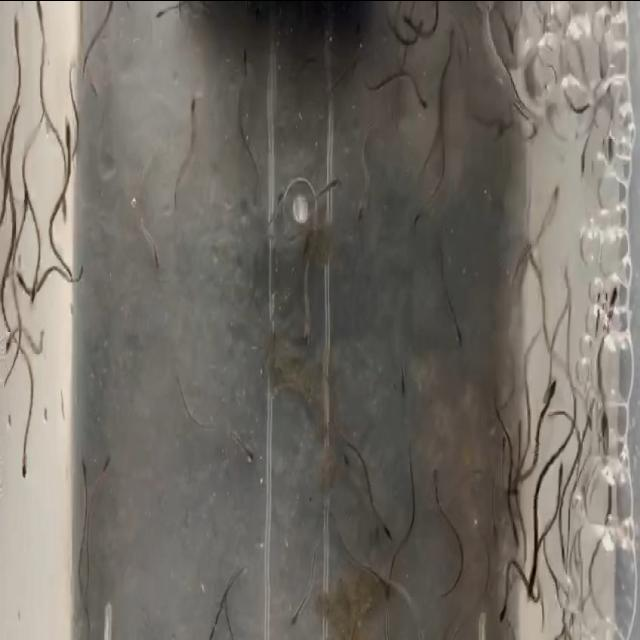active_glass_eel: (372, 500, 400, 550), (286, 578, 308, 636), (267, 173, 289, 230), (542, 364, 562, 421), (297, 306, 317, 362), (318, 166, 342, 212), (333, 434, 358, 477), (150, 222, 166, 286), (59, 116, 77, 172), (356, 176, 372, 237), (16, 182, 34, 236), (8, 10, 28, 56), (94, 448, 114, 492), (440, 21, 460, 65), (16, 444, 34, 492), (378, 576, 396, 622), (524, 561, 544, 602), (603, 278, 620, 326), (550, 455, 568, 498), (180, 92, 204, 124), (429, 448, 445, 496), (240, 433, 260, 471), (232, 48, 252, 86), (408, 199, 428, 237), (8, 256, 26, 298), (494, 589, 514, 626), (394, 359, 412, 397), (3, 317, 20, 357), (414, 85, 434, 119), (556, 526, 572, 568), (78, 454, 92, 500), (450, 316, 469, 348), (508, 517, 524, 555), (414, 15, 430, 50), (415, 597, 428, 640), (32, 4, 50, 34), (514, 410, 528, 448), (155, 1, 172, 31), (28, 276, 40, 316)
